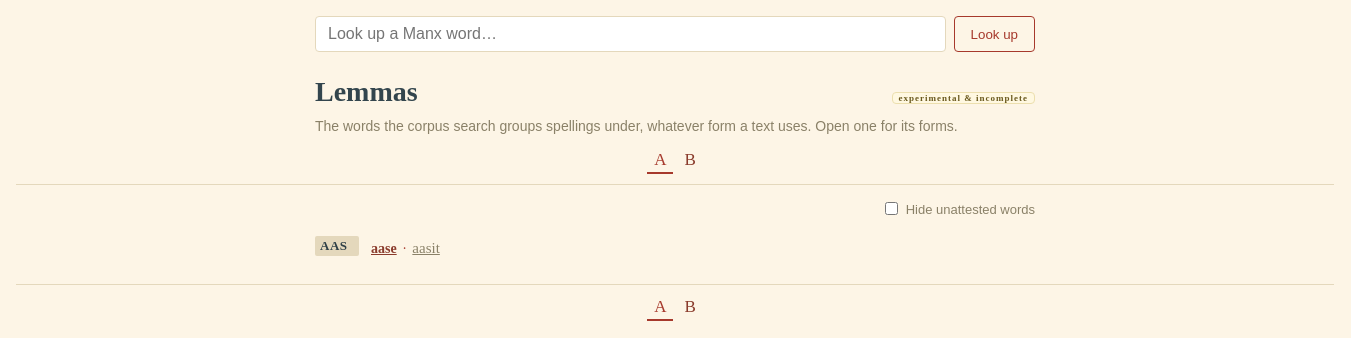
Test: lemma index › can hide the greyed words, and the checkbox is their key
Expected: the link "aasit" is shown, [412,240,440,256]
Click the checkbox: (892, 208) [885,202,898,215]
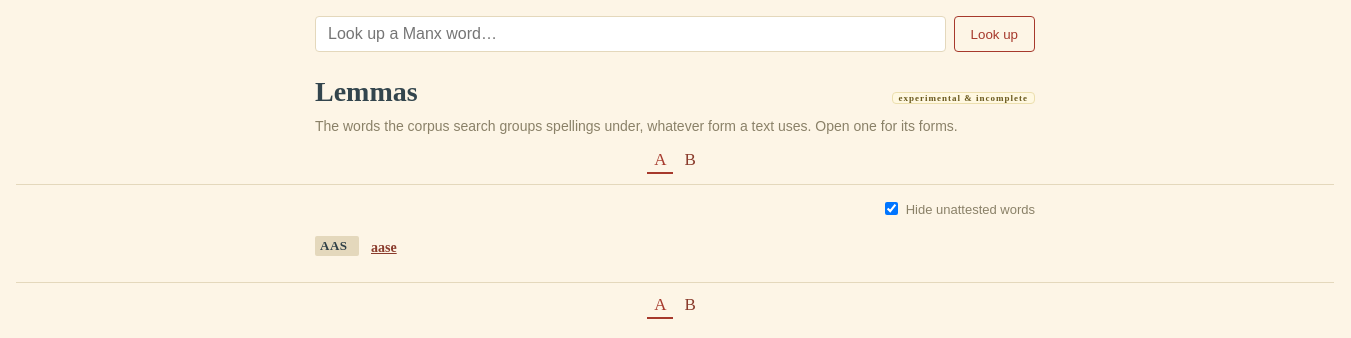
Expected: the link "aase" is shown, [371,240,397,255]
Now the link "aasit" is gone
Click the checkbox: (892, 208) [885,202,898,215]
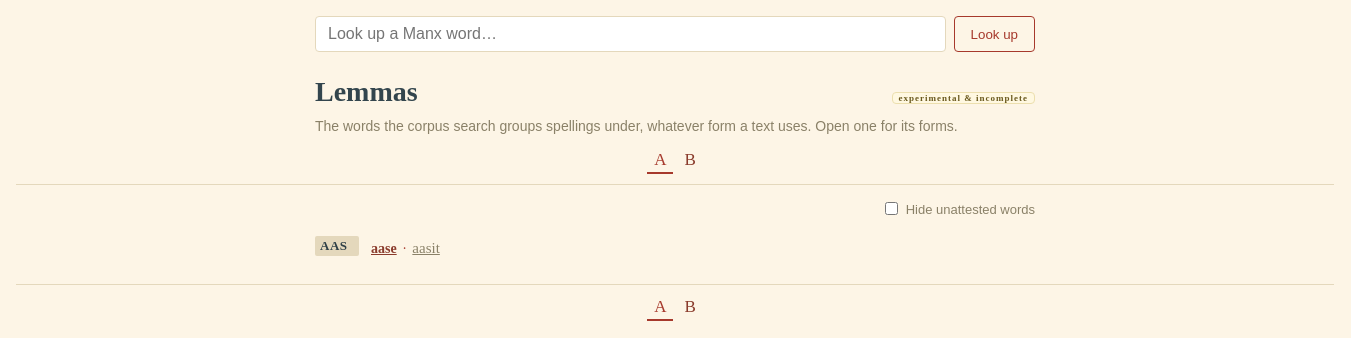
Now the link "aasit" is shown, box [412,240,440,256]
